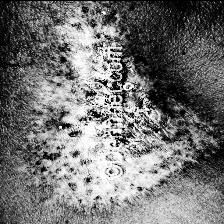Potentially Malignant Skin Tumors: (123, 53, 224, 202), (34, 22, 106, 210)
